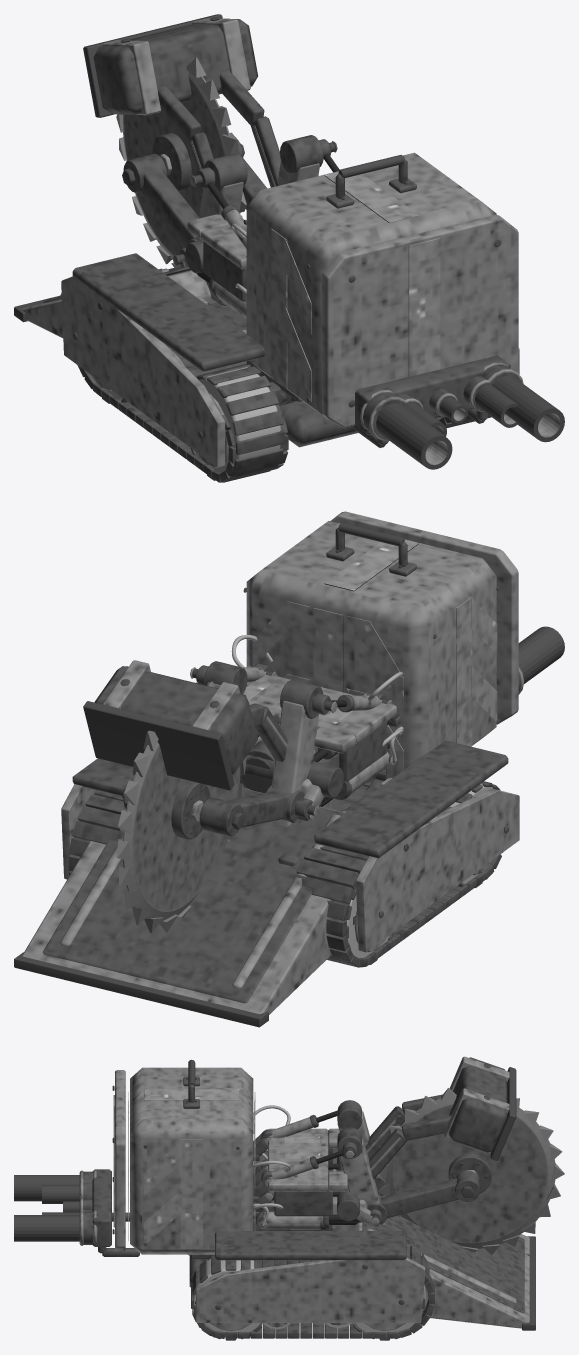
Rendered from sawblade_runtime.glb.
3 renders of one model, top to bottom at view 1: azimuth 30°, elevation 25°; view 2: azimuth 150°, elevation 25°; view 3: azimuth 270°, elevation 25°, orthographic. The views are drawn at different scales.
Parts seen in each view (by area): view 1: Rear pack armor_runtime, Deep rear armor enclosure_runtime, Heavy side skirt.001_runtime, Over wheel armor fender_runtime, Hammer impact head_runtime, Saw disc | sharpened bevel_runtime, Rear armor center band_runtime, Exhaust manifold large_runtime, Horizontal hollow exhaust large.001_runtime, Horizontal hollow exhaust large_runtime, Side black vertical band.001_runtime, Axle fork.001_runtime (+27 smaller); view 2: Deep rear armor enclosure_runtime, Ramp wear face_runtime, Heavy side skirt.001_runtime, Saw disc | sharpened bevel_runtime, Over wheel armor fender_runtime, Full width ramp shell_runtime, Hammer hardened striking face_runtime, Rear pack armor_runtime, Hammer impact head_runtime, Ramp sharpened leading lip_runtime, Broad saw lift cheek.001_runtime, Top machinery guard rear_runtime (+30 smaller); view 3: Deep rear armor enclosure_runtime, Heavy side skirt_runtime, Saw disc | sharpened bevel_runtime, Over wheel armor fender.001_runtime, Ramp wear face_runtime, Hammer impact head_runtime, Full width ramp shell_runtime, Top machinery guard rear_runtime, Side black vertical band_runtime, Rear pack armor_runtime, Horizontal hollow exhaust large_runtime, Axle fork_runtime (+27 smaller).
Boxes of the visible parts, x1,y1,x2,y2 form: Rear pack armor_runtime: [322, 214, 518, 427]; Deep rear armor enclosure_runtime: [246, 152, 496, 419]; Heavy side skirt.001_runtime: [61, 276, 225, 467]; Over wheel armor fender_runtime: [72, 253, 264, 371]; Hammer impact head_runtime: [93, 18, 257, 114]; Saw disc | sharpened bevel_runtime: [123, 72, 240, 259]; Rear armor center band_runtime: [408, 238, 440, 376]; Exhaust manifold large_runtime: [355, 355, 510, 434]; Horizontal hollow exhaust large.001_runtime: [376, 403, 452, 469]; Horizontal hollow exhaust large_runtime: [492, 375, 564, 442]; Side black vertical band.001_runtime: [271, 228, 287, 388]; Axle fork.001_runtime: [141, 168, 198, 247]; Deep rear armor enclosure_runtime: [246, 521, 496, 772]; Ramp wear face_runtime: [43, 789, 354, 1003]; Heavy side skirt.001_runtime: [355, 788, 519, 952]; Saw disc | sharpened bevel_runtime: [122, 742, 240, 921]; Over wheel armor fender_runtime: [314, 740, 508, 858]; Full width ramp shell_runtime: [23, 788, 344, 1014]; Hammer hardened striking face_runtime: [83, 701, 234, 790]; Rear pack armor_runtime: [330, 511, 518, 723]; Hammer impact head_runtime: [94, 666, 257, 774]; Ramp sharpened leading lip_runtime: [14, 952, 268, 1027]; Broad saw lift cheek.001_runtime: [269, 700, 318, 826]; Top machinery guard rear_runtime: [246, 675, 396, 743]; Deep rear armor enclosure_runtime: [130, 1067, 253, 1254]; Heavy side skirt_runtime: [196, 1257, 425, 1322]; Saw disc | sharpened bevel_runtime: [385, 1094, 555, 1248]; Over wheel armor fender.001_runtime: [215, 1231, 406, 1260]; Ramp wear face_runtime: [362, 1216, 524, 1313]; Hammer impact head_runtime: [449, 1057, 507, 1153]; Full width ramp shell_runtime: [347, 1222, 529, 1328]; Top machinery guard rear_runtime: [268, 1128, 328, 1191]; Side black vertical band_runtime: [180, 1139, 202, 1248]; Rear pack armor_runtime: [115, 1070, 125, 1251]; Horizontal hollow exhaust large_runtime: [14, 1215, 79, 1241]; Axle fork_runtime: [380, 1178, 459, 1218].
Size of the model in its own units: 1.87 by 1.75 by 3.94.
8 materials, 8 textured.
